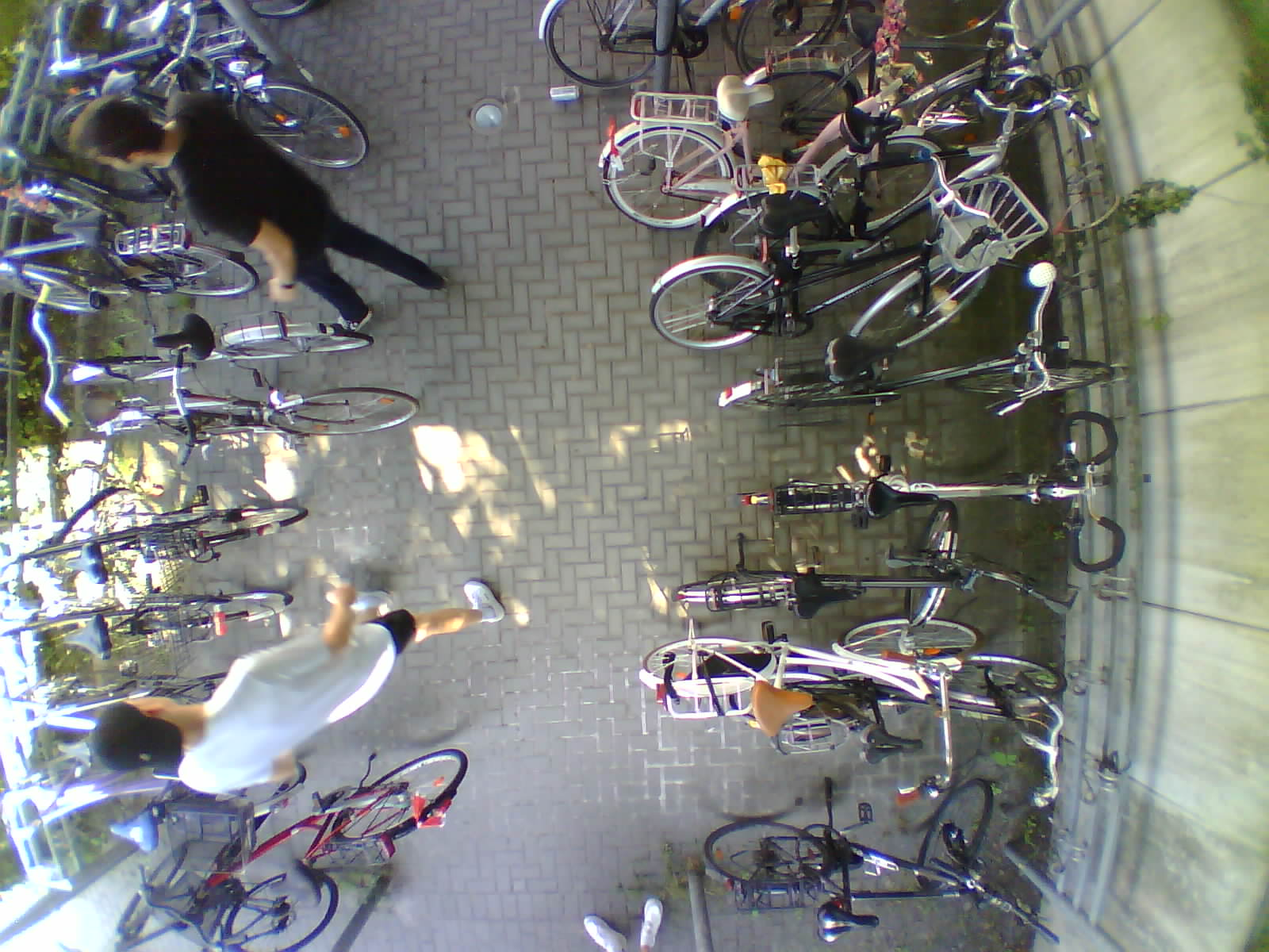bicylce: (696, 113, 1036, 293), (651, 173, 996, 350), (599, 64, 944, 230), (721, 27, 1045, 170), (702, 782, 995, 927), (638, 616, 974, 726), (675, 504, 980, 624), (181, 763, 466, 891), (720, 336, 1111, 428), (734, 656, 1067, 756), (17, 743, 309, 849), (48, 313, 375, 393), (27, 491, 312, 579), (78, 383, 417, 453), (109, 850, 341, 951), (734, 464, 1096, 528), (6, 582, 296, 660), (1, 214, 257, 302), (49, 29, 273, 113)
saddle: (826, 335, 901, 386), (753, 680, 813, 737), (760, 190, 827, 240), (841, 107, 901, 159), (796, 575, 859, 622), (716, 72, 772, 122), (815, 907, 880, 950), (867, 481, 939, 518), (150, 316, 213, 358), (863, 726, 923, 769), (269, 860, 320, 907), (62, 616, 110, 660), (64, 542, 110, 586), (54, 210, 109, 246), (111, 813, 158, 855), (81, 386, 127, 427), (124, 4, 173, 38), (844, 12, 891, 45), (103, 69, 142, 97), (56, 744, 94, 769)
